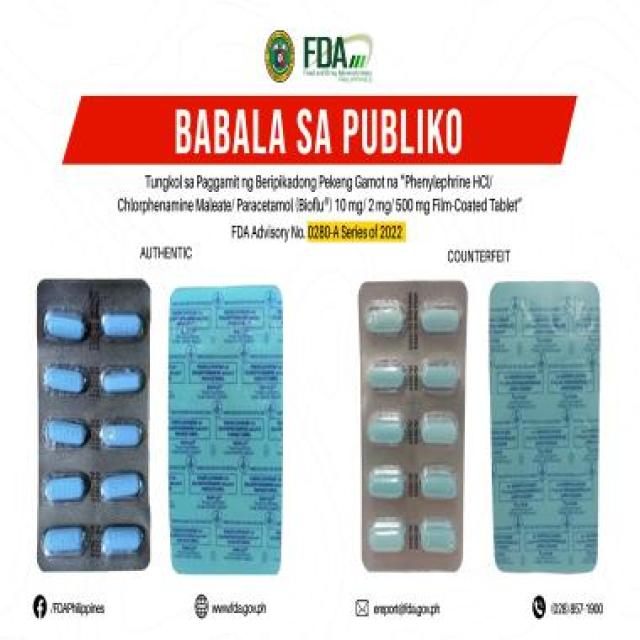Bioflu_Strip: (26, 258, 164, 586), (343, 274, 478, 588)
